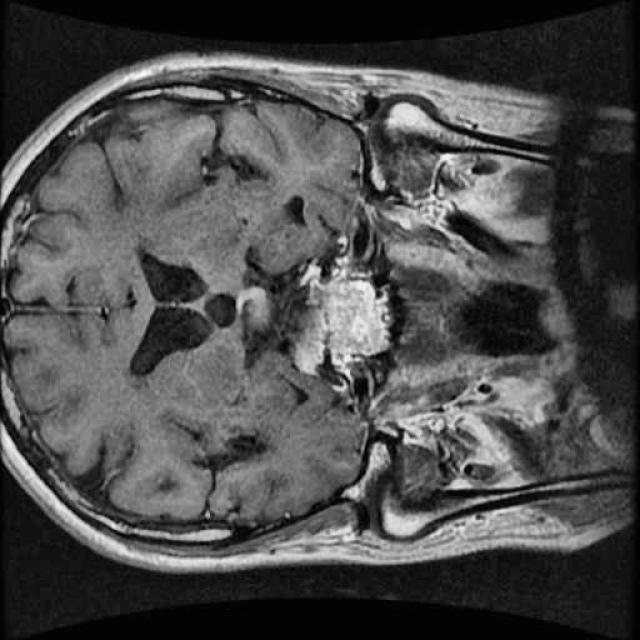Tumor: (228, 250, 338, 378)
